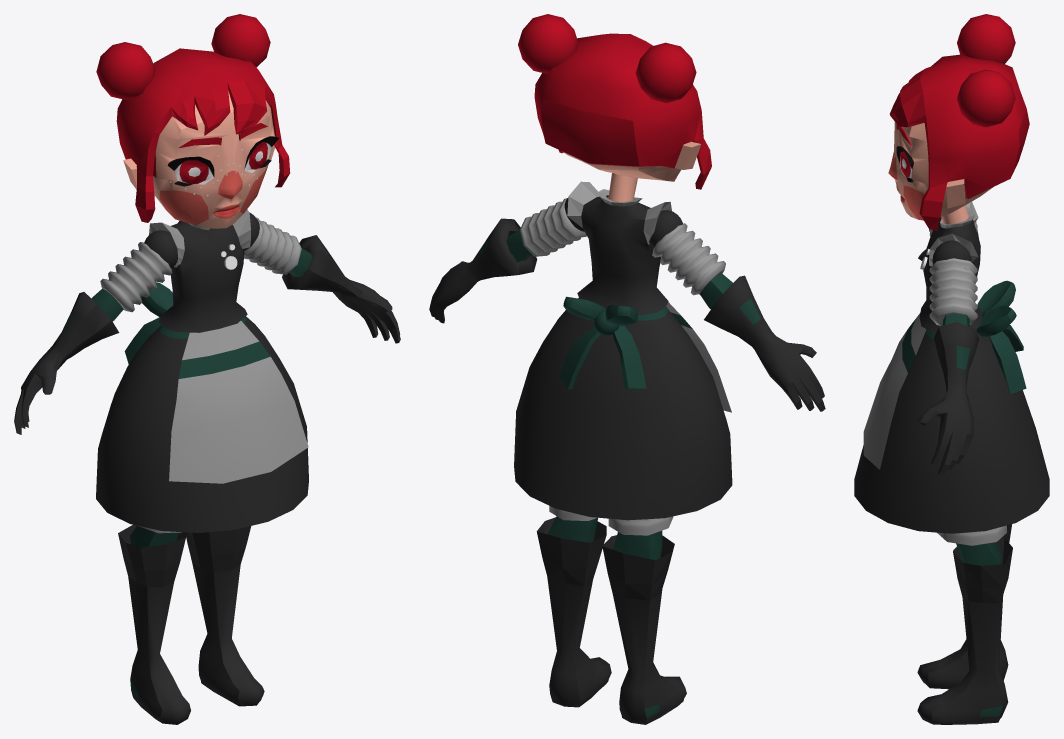
File: penelope.fbx
The picture shows the model from 3 angles, left to right: view 1: azimuth 30°, elevation 25°; view 2: azimuth 150°, elevation 25°; view 3: azimuth 270°, elevation 25°; orthographic projection. The views are drawn at different scales.
Parts seen in each view (by area): view 1: Object009; view 2: Object009; view 3: Object009.
Part boxes in pixels (box(x1,y1,x2,y2)): Object009: box(14, 14, 400, 724); Object009: box(429, 14, 825, 724); Object009: box(854, 14, 1049, 724).
Bounding box in the file's own units: 21633 × 35677 × 9642.
